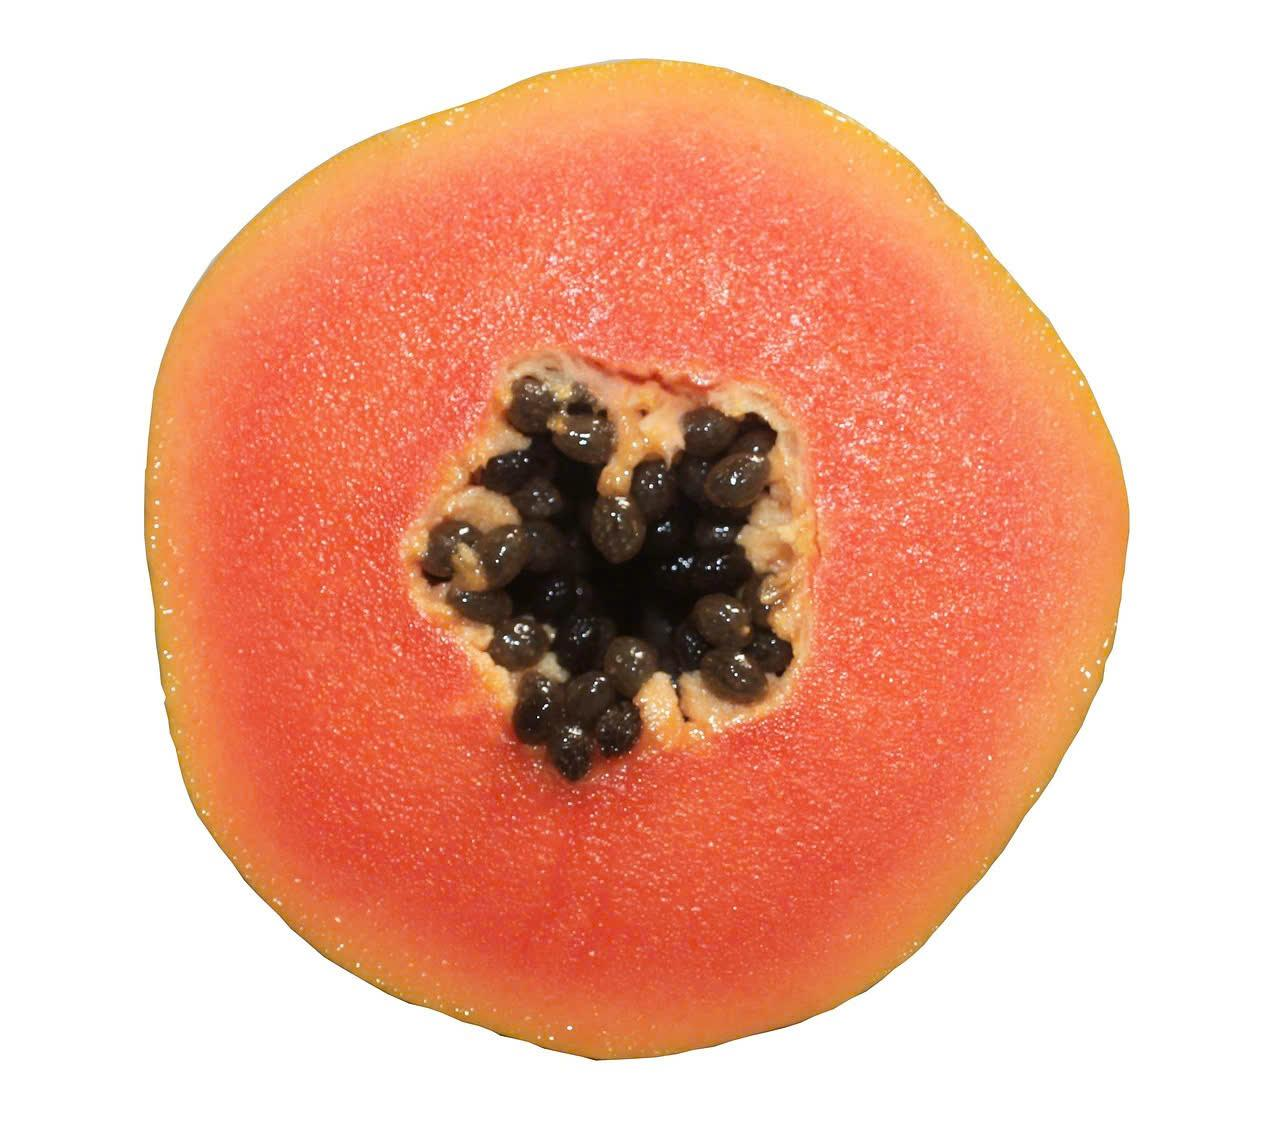papaya: (97, 36, 1169, 1098)
